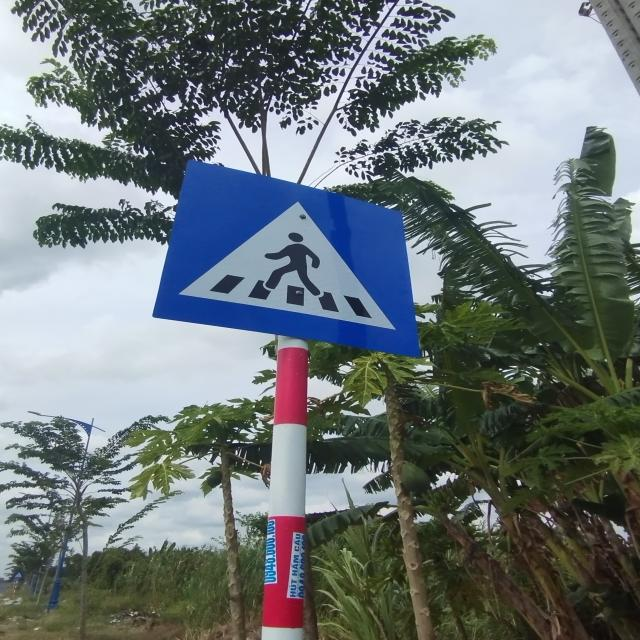Giao_Nhau_Duong_Uu_Tien: (153, 160, 424, 358)
